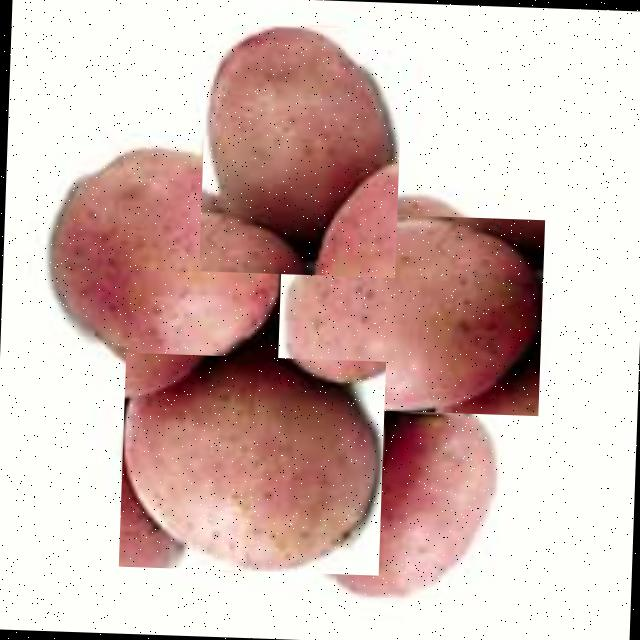Defected potato: (118, 352, 384, 575), (43, 140, 281, 382), (275, 210, 544, 416), (198, 22, 402, 278), (304, 388, 503, 606)
